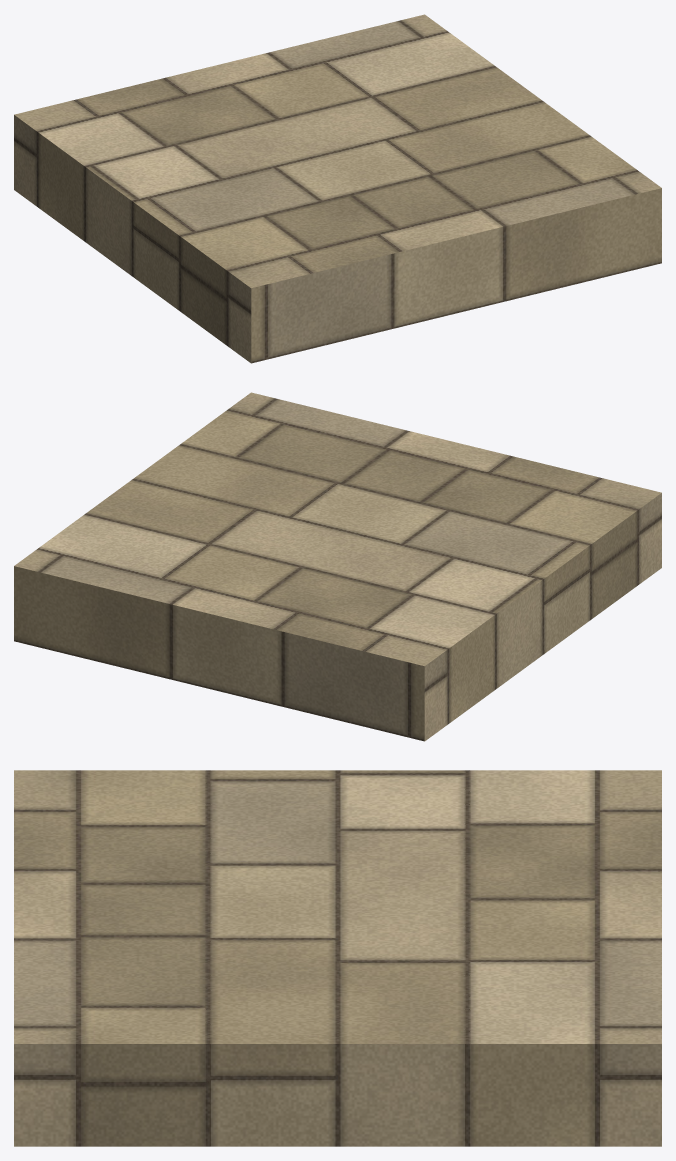
The model's file is sidewalk.glb.
3 views of the same model, one above another, from view 1: azimuth 30°, elevation 25°; view 2: azimuth 150°, elevation 25°; view 3: azimuth 270°, elevation 25° (orthographic). The views are drawn at different scales.
Parts seen in each view (by area): view 1: Sidewalk_flags; view 2: Sidewalk_flags; view 3: Sidewalk_flags.
Part boxes in pixels (x1,y1,x2,y2): Sidewalk_flags: [14, 14, 661, 363]; Sidewalk_flags: [14, 392, 661, 741]; Sidewalk_flags: [14, 770, 661, 1146].
Bounding box in the file's own units: 2 × 0.35 × 2.
Materials: 1 (1 with a texture image).
